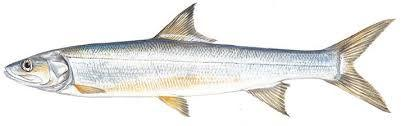Tenpounder: (3, 2, 398, 115)
